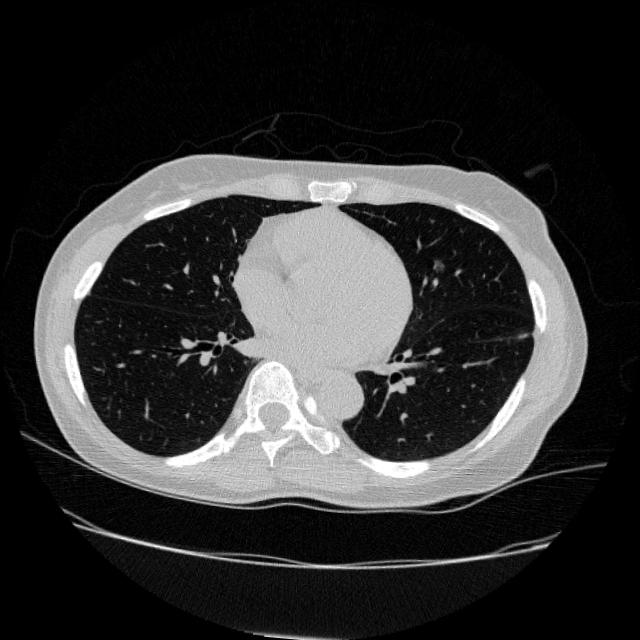nodule: (424, 253, 448, 277)
